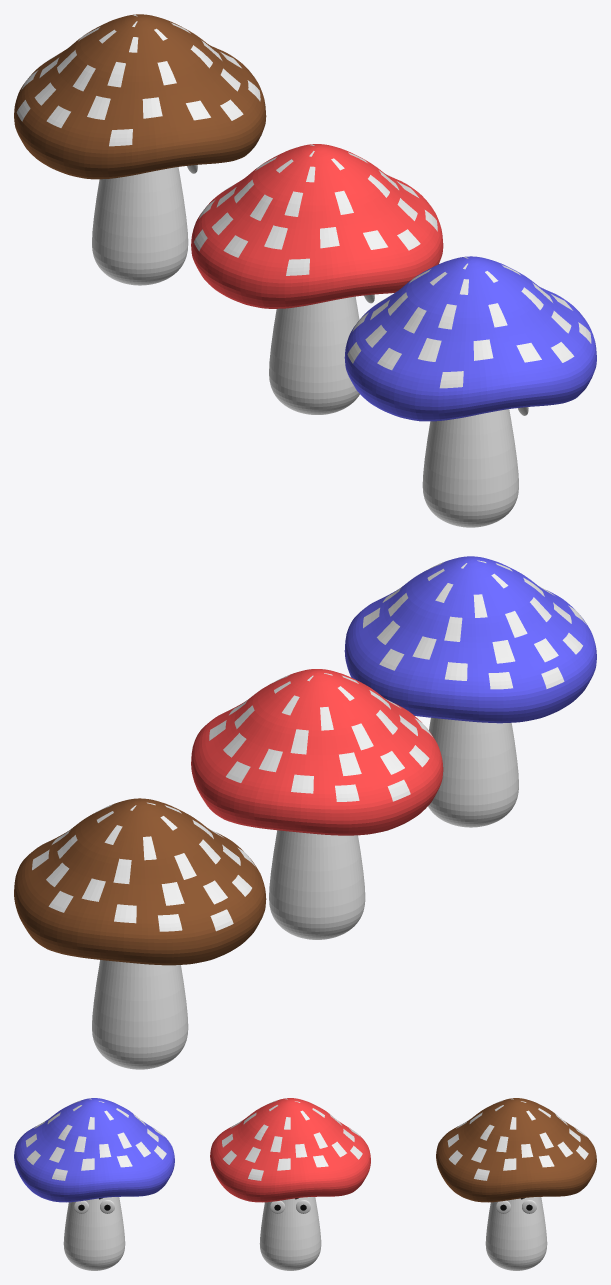
File: Mushroom-ModelsBlueRedBrown.fbx
3 views of the same model, one above another, from view 1: azimuth 30°, elevation 25°; view 2: azimuth 150°, elevation 25°; view 3: azimuth 270°, elevation 25° (orthographic). The views are drawn at different scales.
Parts seen in each view (by area): view 1: Sphere.002, Sphere.003, Sphere.001; view 2: Sphere.002, Sphere.001, Sphere.003; view 3: Sphere.003, Sphere.002, Sphere.001.
Boxes of the visible parts, x1,y1,x2,y2 form: Sphere.002: (14, 14, 266, 285); Sphere.003: (344, 256, 596, 527); Sphere.001: (191, 144, 443, 414); Sphere.002: (14, 798, 266, 1069); Sphere.001: (191, 669, 443, 939); Sphere.003: (344, 556, 596, 827); Sphere.003: (14, 1098, 174, 1270); Sphere.002: (436, 1098, 596, 1270); Sphere.001: (210, 1098, 370, 1270).
Bounding box in the file's own units: 252 × 288 × 913.
